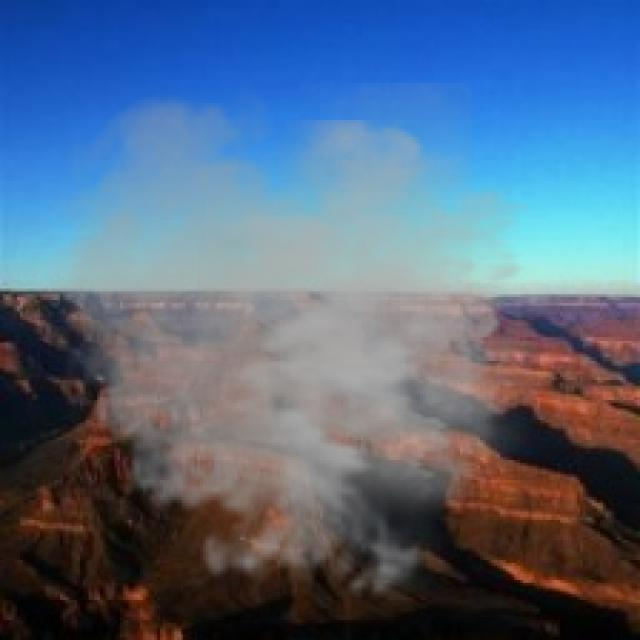Smoke: (31, 82, 566, 614)
